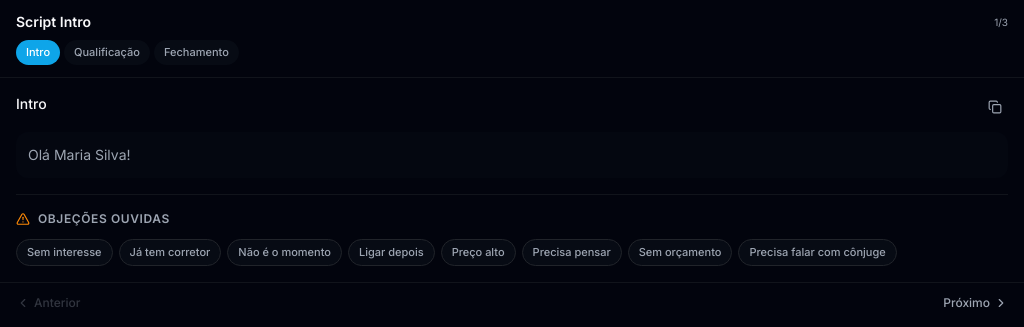
Test: ProspectingScriptGuide › navigates between sections with next/prev
Expected: the text "1/3" is shown, [994,14,1008,30]
Click the button "Próximo": (976, 303) [943,295,1008,311]
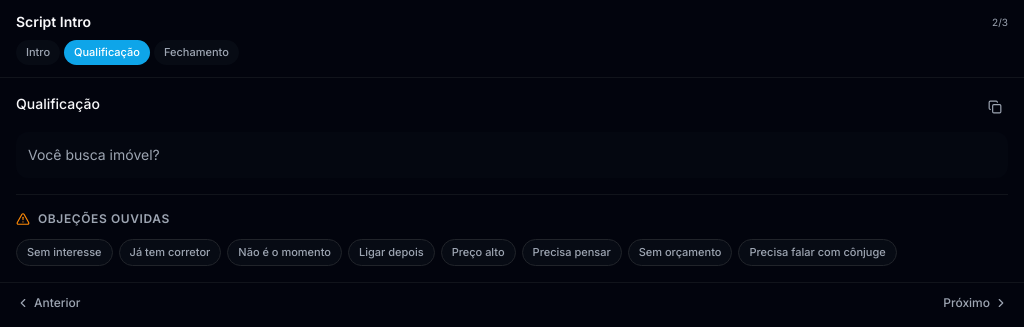
Expected: the text "2/3" is shown, [992,14,1008,30]
Click the button "Anterior": (48, 303) [16,295,80,311]
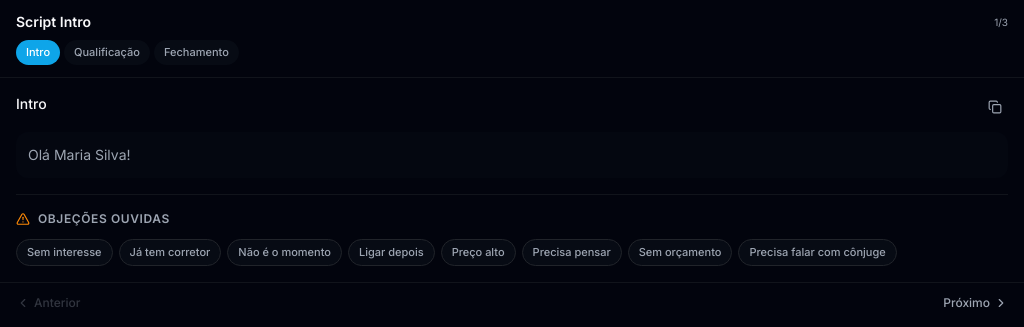
Expected: the text "1/3" is shown, [994,14,1008,30]
